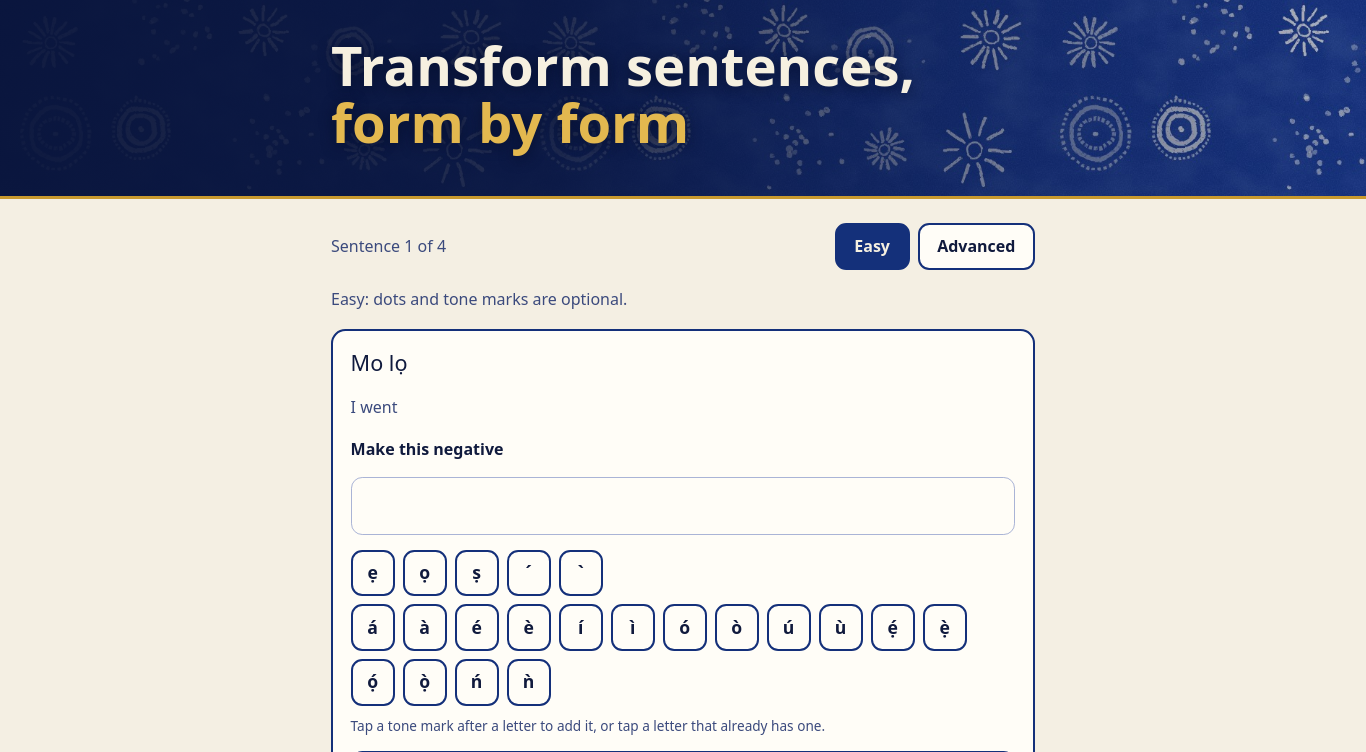
Transform page › checks on Enter
The width and height of the screenshot is (1366, 752).
Type "Mi ò lọ" into the field with test id "transform-input" at (683, 506), box [351,477,1015,535]
Then press Enter
(page scrolled)
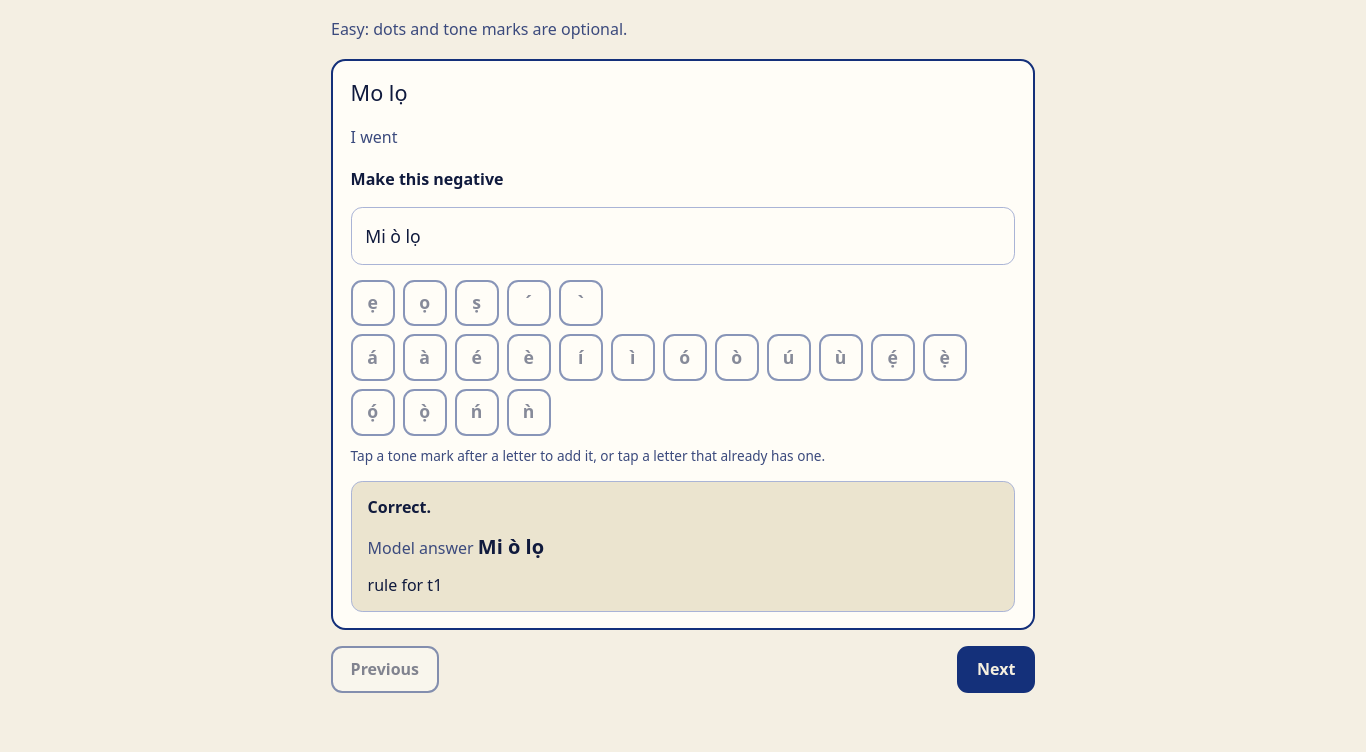
Expected: the message "Correct." is shown, [368,496,431,518]
